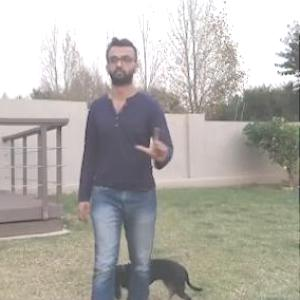land_hand: (133, 122, 174, 162)
